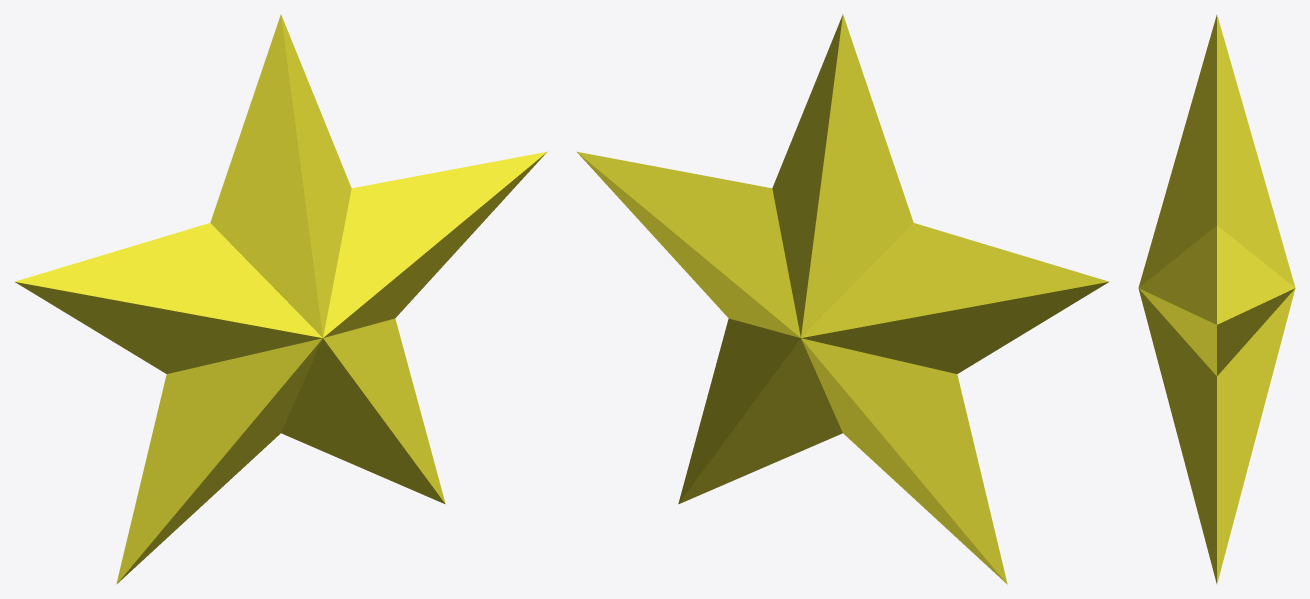
Rendered from Star.fbx.
3 views of the same model, side by side, from view 1: azimuth 30°, elevation 25°; view 2: azimuth 150°, elevation 25°; view 3: azimuth 270°, elevation 25° (orthographic). The views are drawn at different scales.
Visible parts, largest first — view 1: Star; view 2: Star; view 3: Star.
Boxes of the visible parts, x1,y1,x2,y2 form: Star: (14,14,547,584); Star: (576,14,1109,584); Star: (1138,15,1295,583).
Size of the model in its own units: 67.13 by 63.84 by 18.33.
1 material, 1 textured.
